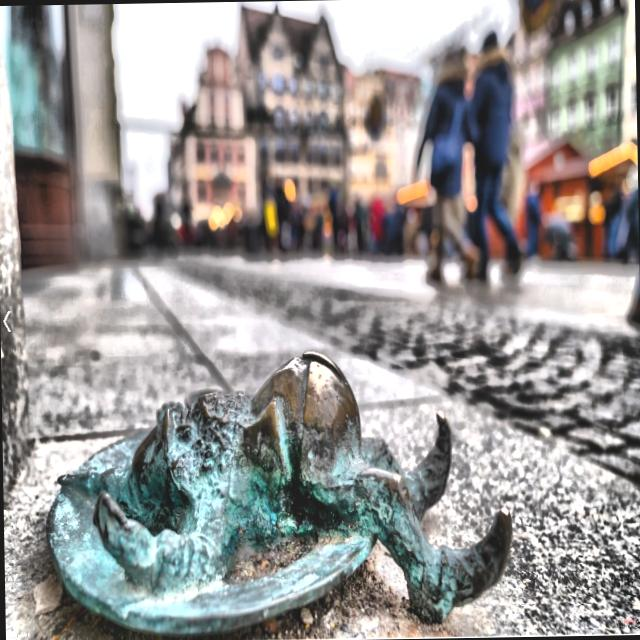Obiezysmak: (47, 353, 513, 640)
